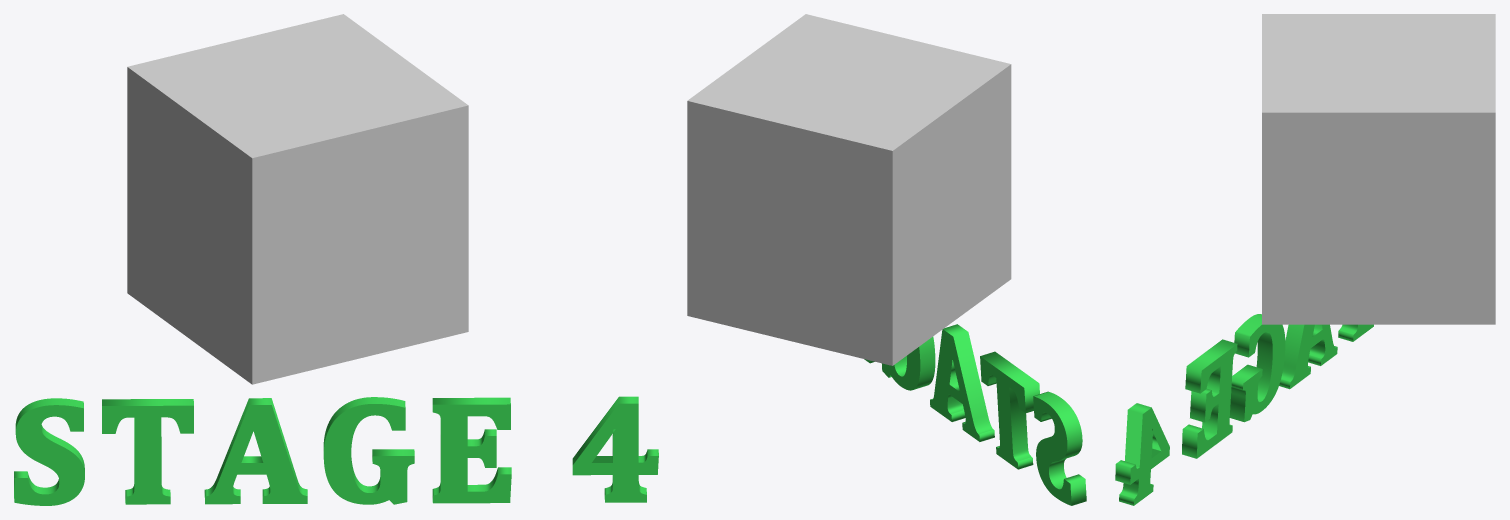
The model's file is Stage4.glb.
3 views of the same model, side by side, from view 1: azimuth 30°, elevation 25°; view 2: azimuth 150°, elevation 25°; view 3: azimuth 270°, elevation 25° (orthographic). The views are drawn at different scales.
Parts seen in each view (by area): view 1: Cube, Text; view 2: Cube, Text; view 3: Cube, Text.
Boxes of the visible parts, x1,y1,x2,y2 form: Cube: [127, 14, 468, 384]; Text: [14, 396, 658, 505]; Cube: [687, 14, 1011, 365]; Text: [864, 324, 1086, 505]; Cube: [1262, 14, 1495, 324]; Text: [1115, 314, 1373, 505].
Size of the model in its own units: 4.58 by 3.25 by 3.25.
